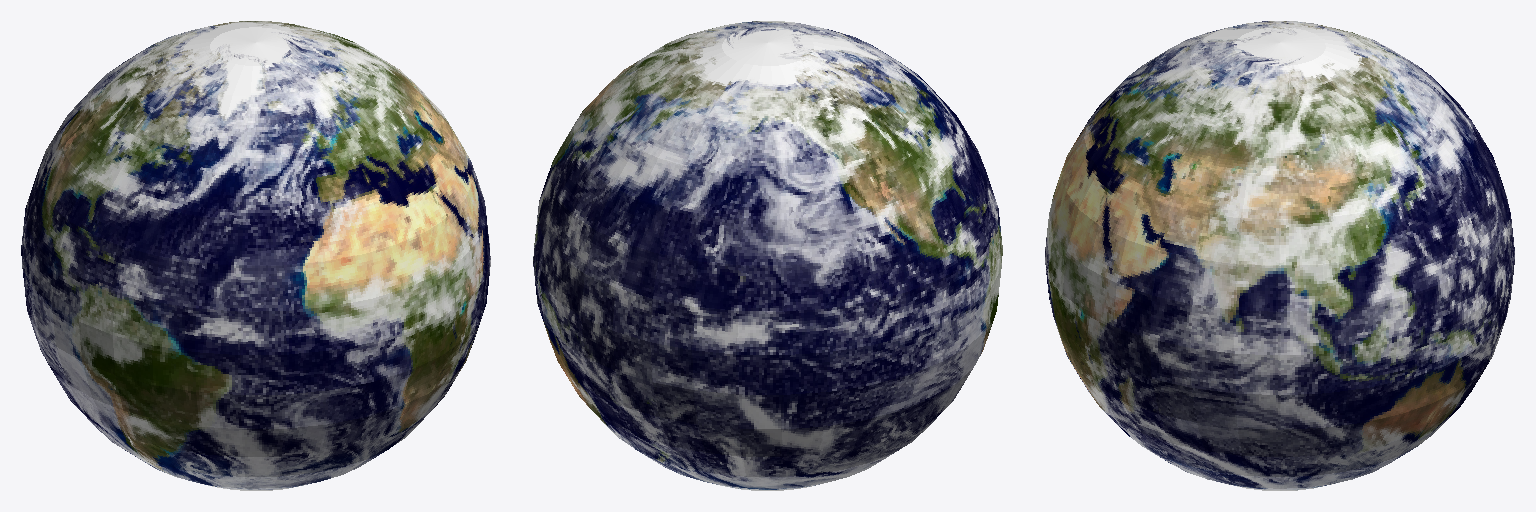
3 views of the same model, side by side, from view 1: azimuth 30°, elevation 25°; view 2: azimuth 150°, elevation 25°; view 3: azimuth 270°, elevation 25° (orthographic).
Visible parts, largest first — view 1: Sphere; view 2: Sphere; view 3: Sphere.
Part boxes in pixels (x1,y1,x2,y2): Sphere: (21, 21, 490, 490); Sphere: (533, 21, 1002, 490); Sphere: (1045, 21, 1514, 490).
Size of the model in its own units: 2 by 2 by 2.
1 materials, 1 textured.